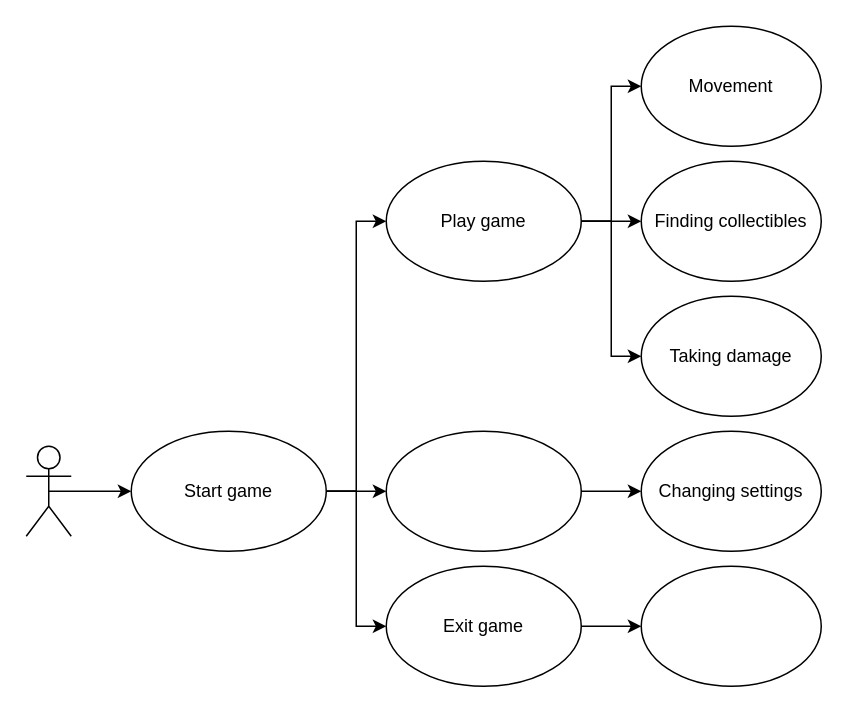
Some shapes in this 848 by 713 pixel diagram are drawn without their labels. Each missing label, with the box of its shape:
Actor: (25, 445, 71, 536)
Saving the game: (640, 565, 821, 686)
Settings: (385, 430, 581, 551)
